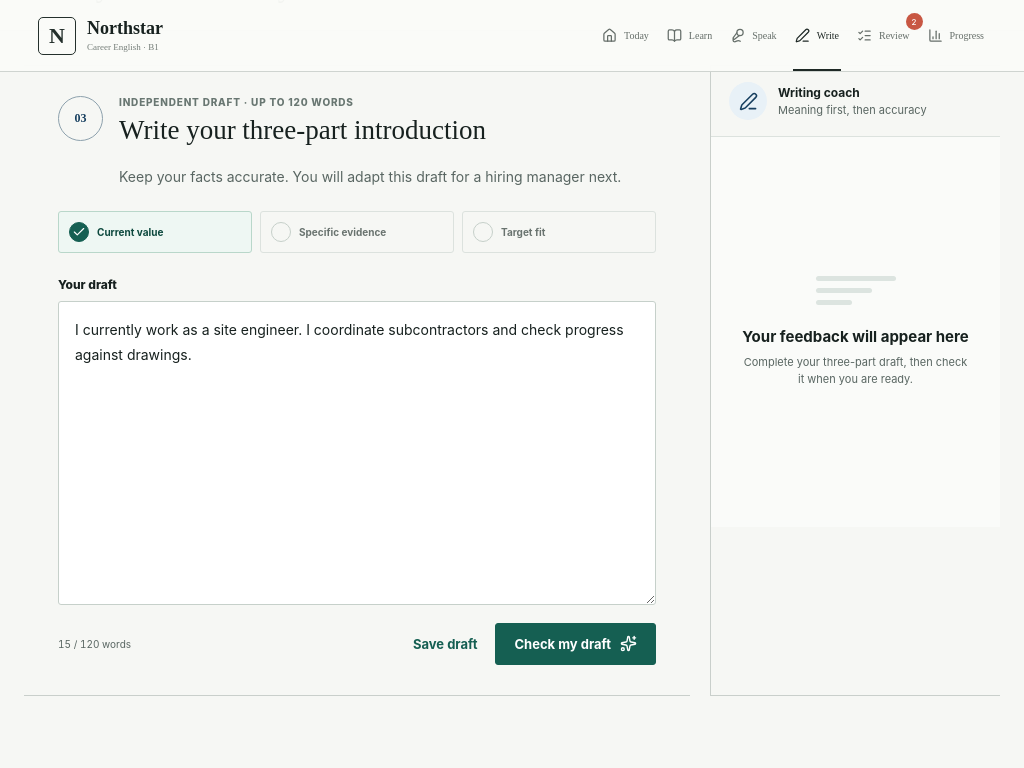
learning UI prototype › shows writing feedback without inventing learner facts
The image size is (1024, 768).
(page scrolled)
What coordinates should you click on to do the following:
click the button "Check my draft"
I would click on:
 (576, 644)
Its box is [495,623,656,665].
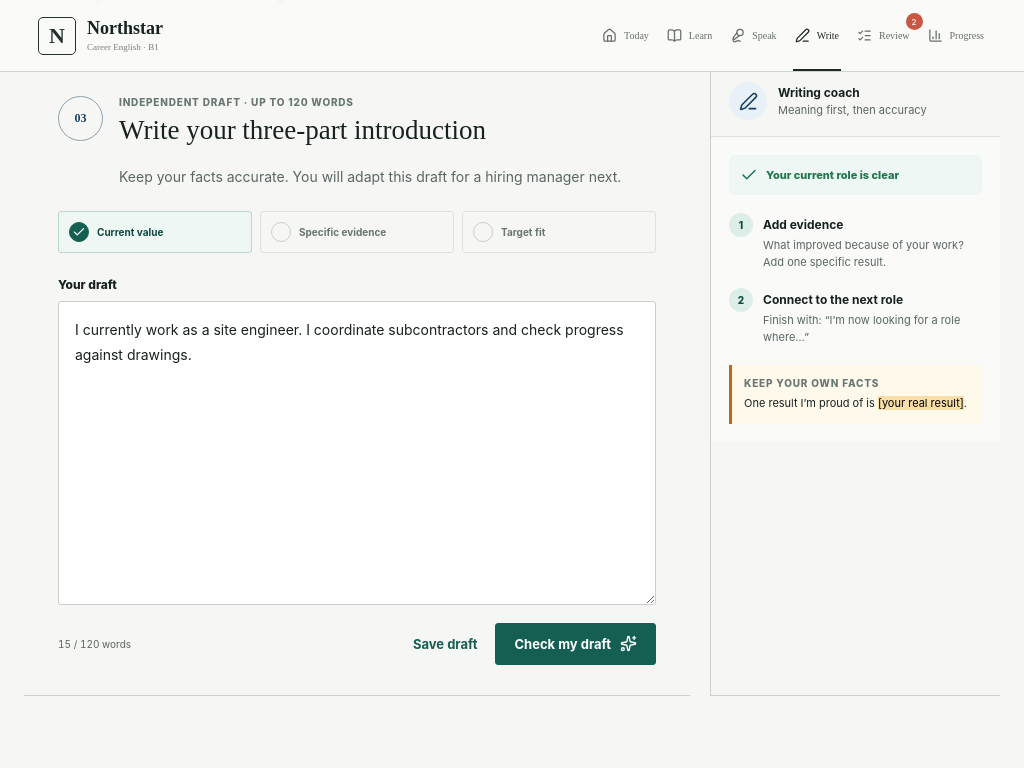
Expected: the text "Add evidence" is shown, [763,217,843,232]
Expected: the text "[your real result]" is shown, [878,396,964,410]
